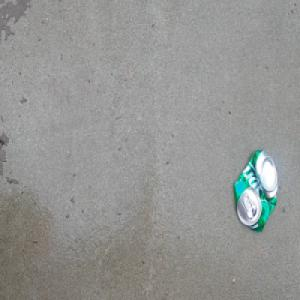SodaCan: (232, 147, 280, 235)
